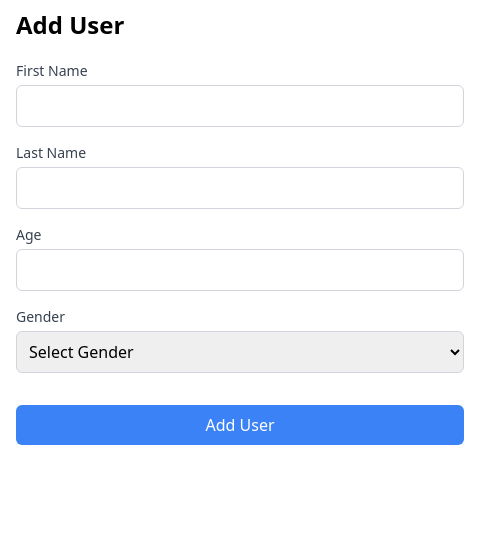
Test: AddUser Component › shows validation messages when required fields are empty
Click the button "Add User".
click(240, 425)  # box [16,405,464,445]
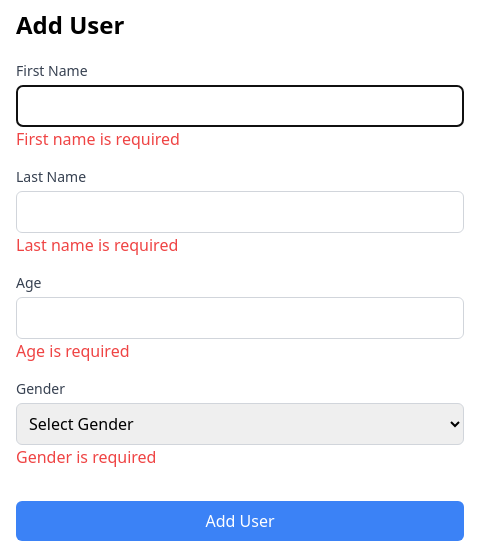
Expected: the text "First name is required" is shown, [16,128,180,150]
Expected: the text "Last name is required" is shown, [16,234,178,256]
Expected: the text "Age is required" is shown, [16,340,130,362]
